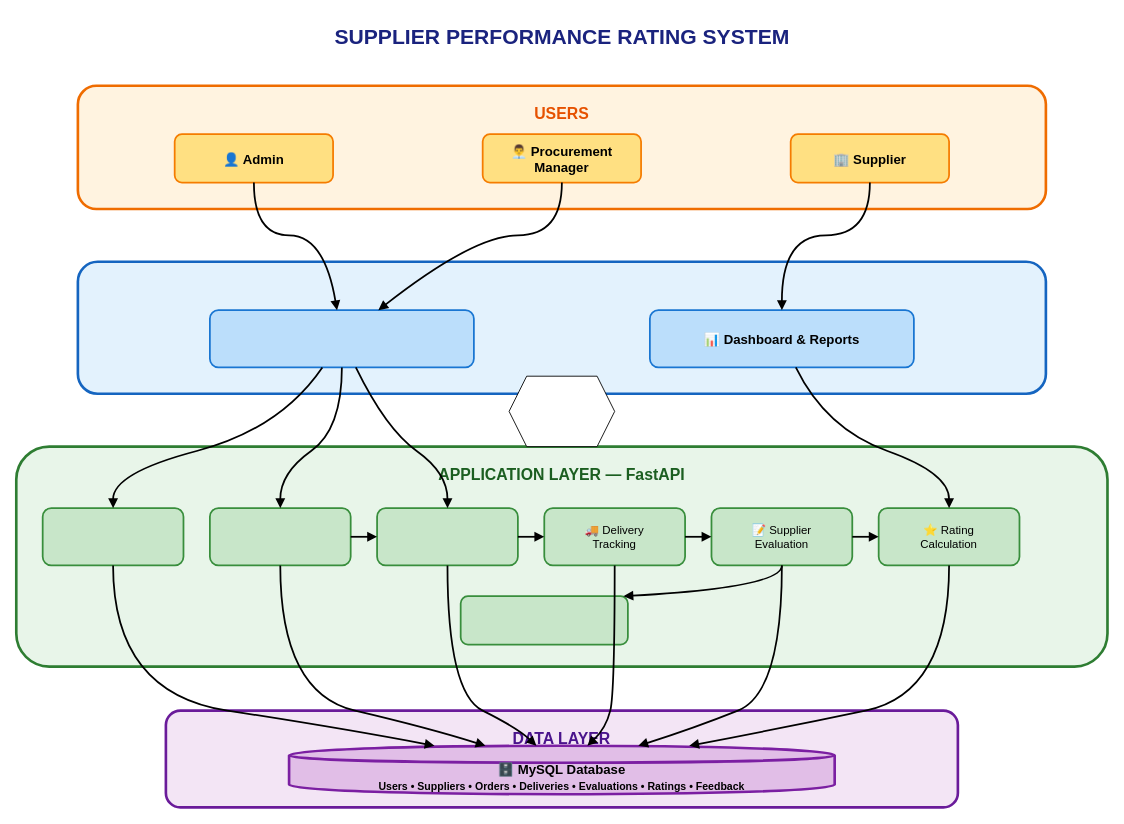
Image size: 1124x824. Some labels were removed from this diagram. The shapes that lost their labels are listed below. From the top down, each one's box as (x1, y1, x2, y2) in pixels, then its label:
(209, 309, 474, 368): 💻 Supplier Performance Rating Web Application
(76, 260, 1047, 395): PRESENTATION LAYER
(41, 507, 184, 566): 🔐 Authentication & Role Management
(209, 507, 351, 566): 🏢 Supplier Management
(376, 507, 518, 566): 📦 Purchase Order Management
(459, 595, 628, 645): 💬 Feedback & Ranking
